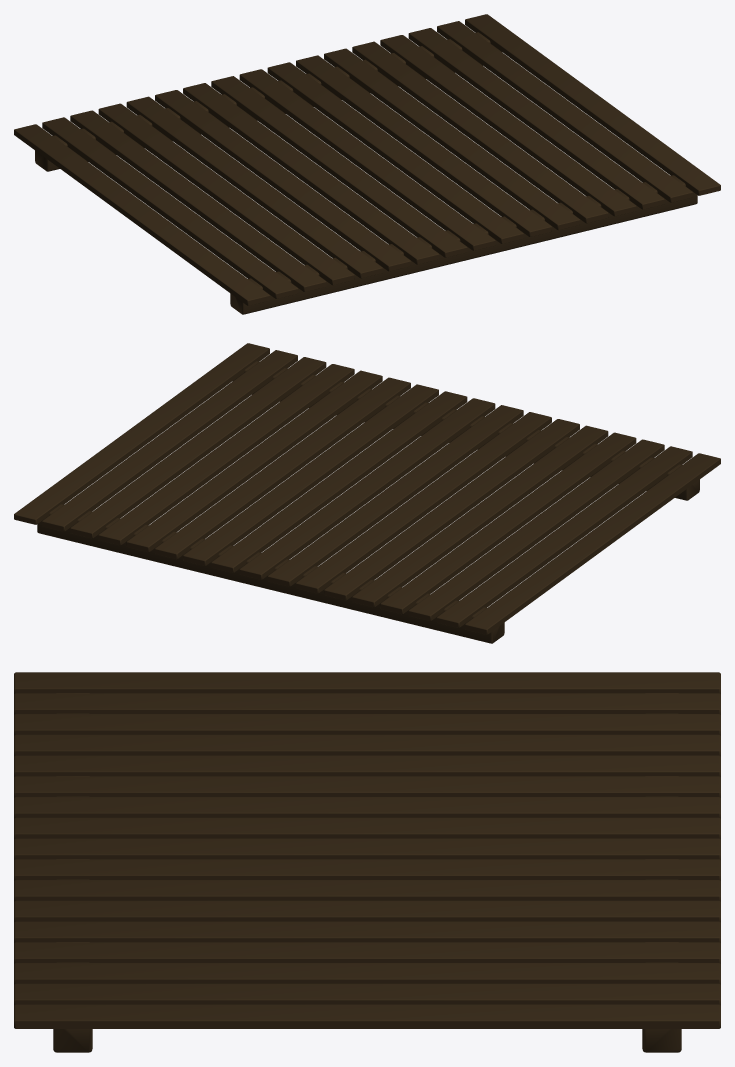
Rendered from bridge.obj.
3 views of the same model, one above another, from view 1: azimuth 30°, elevation 25°; view 2: azimuth 150°, elevation 25°; view 3: azimuth 270°, elevation 25° (orthographic). The views are drawn at different scales.
Parts seen in each view (by area): view 1: Step.016_Cube.032, Step.004_Cube.020, Step.007_Cube.023, Step.009_Cube.025, Step.013_Cube.029, Step.002_Cube.018, Step.003_Cube.019, Step.008_Cube.024, Step.014_Cube.030, Step_Cube.002, Step.012_Cube.028, Step.015_Cube.031 (+6 smaller); view 2: Step.016_Cube.032, Step.004_Cube.020, Step.007_Cube.023, Step.009_Cube.025, Step.013_Cube.029, Step.002_Cube.018, Step.003_Cube.019, Step.008_Cube.024, Step.014_Cube.030, Step_Cube.002, Step.012_Cube.028, Step.015_Cube.031 (+6 smaller); view 3: Step_Cube.002, Step.001_Cube.017, Step.005_Cube.021, Step.009_Cube.025, Step.013_Cube.029, Step.004_Cube.020, Step.008_Cube.024, Step.012_Cube.028, Step.016_Cube.032, Step.002_Cube.018, Step.006_Cube.022, Step.010_Cube.026 (+6 smaller).
Boxes of the visible parts, box(x1,y1,x2,y2) form: Step.016_Cube.032: box(14, 124, 269, 305); Step.004_Cube.020: box(352, 41, 608, 223); Step.007_Cube.023: box(267, 62, 523, 243); Step.009_Cube.025: box(211, 76, 467, 257); Step.013_Cube.029: box(98, 103, 354, 285); Step.002_Cube.018: box(408, 28, 664, 209); Step.003_Cube.019: box(380, 35, 636, 216); Step.008_Cube.024: box(239, 69, 495, 250); Step.014_Cube.030: box(70, 110, 326, 291); Step_Cube.002: box(465, 14, 720, 195); Step.012_Cube.028: box(126, 96, 382, 278); Step.015_Cube.031: box(42, 117, 297, 298); Step.016_Cube.032: box(465, 453, 720, 634); Step.004_Cube.020: box(126, 370, 382, 552); Step.007_Cube.023: box(211, 391, 467, 572); Step.009_Cube.025: box(267, 405, 523, 586); Step.013_Cube.029: box(380, 432, 636, 614); Step.002_Cube.018: box(70, 357, 326, 538); Step.003_Cube.019: box(98, 364, 354, 545); Step.008_Cube.024: box(239, 398, 495, 579); Step.014_Cube.030: box(408, 439, 664, 620); Step_Cube.002: box(14, 343, 269, 524); Step.012_Cube.028: box(352, 425, 608, 607); Step.015_Cube.031: box(437, 446, 692, 627); Step_Cube.002: box(14, 1004, 720, 1028); Step.001_Cube.017: box(14, 983, 720, 1005); Step.005_Cube.021: box(14, 900, 720, 922); Step.009_Cube.025: box(14, 817, 720, 839); Step.013_Cube.029: box(14, 734, 720, 756); Step.004_Cube.020: box(14, 921, 720, 942); Step.008_Cube.024: box(14, 838, 720, 859); Step.012_Cube.028: box(14, 755, 720, 776); Step.016_Cube.032: box(14, 672, 720, 693); Step.002_Cube.018: box(14, 963, 720, 984); Step.006_Cube.022: box(14, 880, 720, 901); Step.010_Cube.026: box(14, 797, 720, 818).
Bounding box in the file's own units: 4.2 × 0.225 × 3.6.
